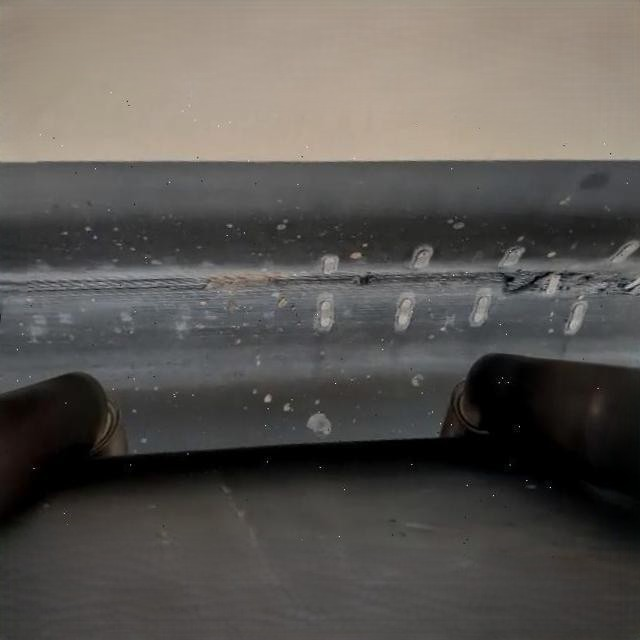Tear: (492, 265, 589, 299)
Wear: (0, 261, 640, 302)
